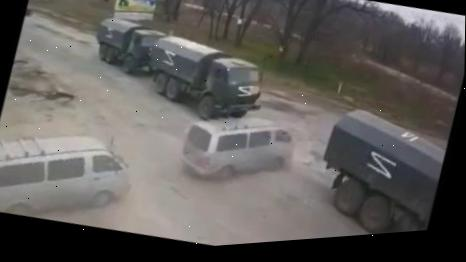truck: (303, 88, 456, 239), (136, 24, 276, 137), (87, 11, 169, 83)
